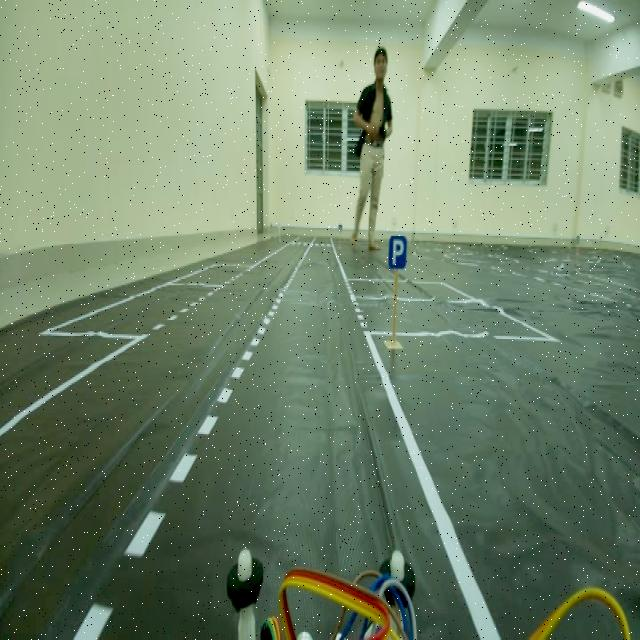parking: (386, 229, 407, 273)
